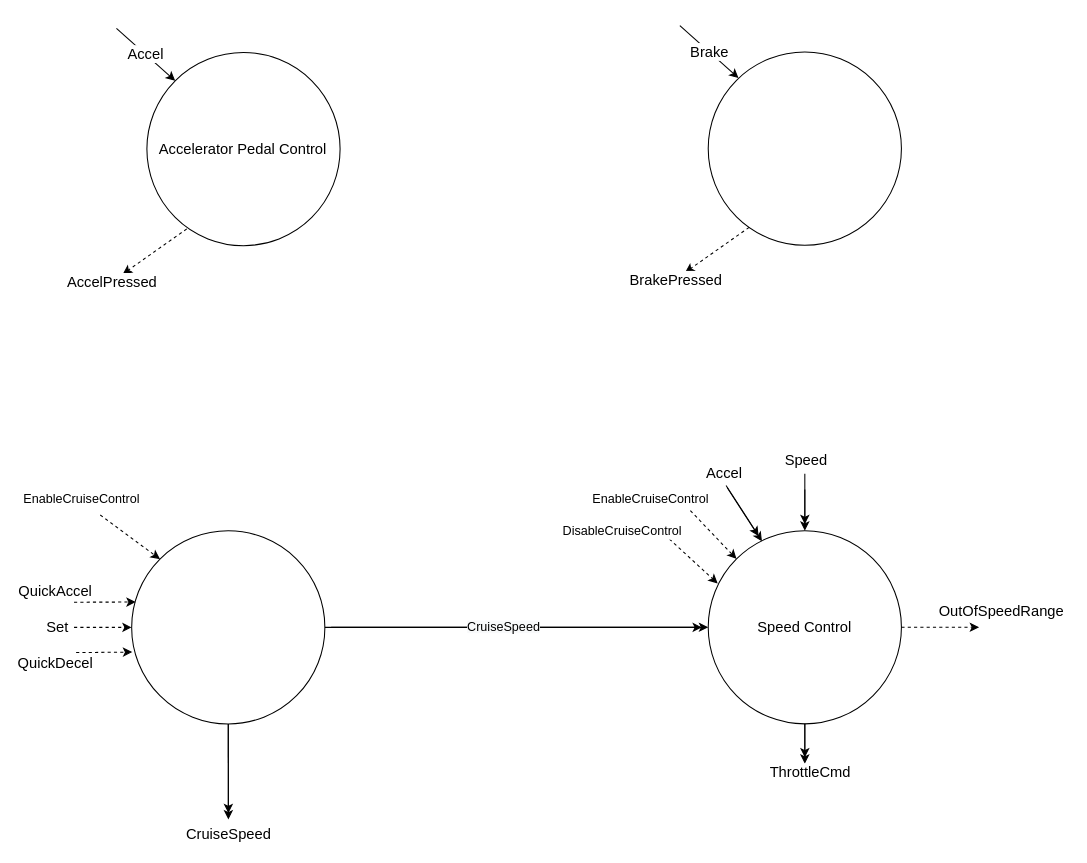
Image size: 1087x863. Some labels were removed from this diagram. The shapes that lost their labels are listed below. From the top down, each one's box as (x1, y1, x2, y2) in pixels, then its label:
(707, 51, 901, 245): Brake Pedal Control
(131, 530, 325, 724): Cruise Speed Control
